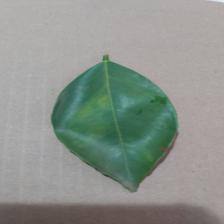greening: (50, 80, 130, 140)
